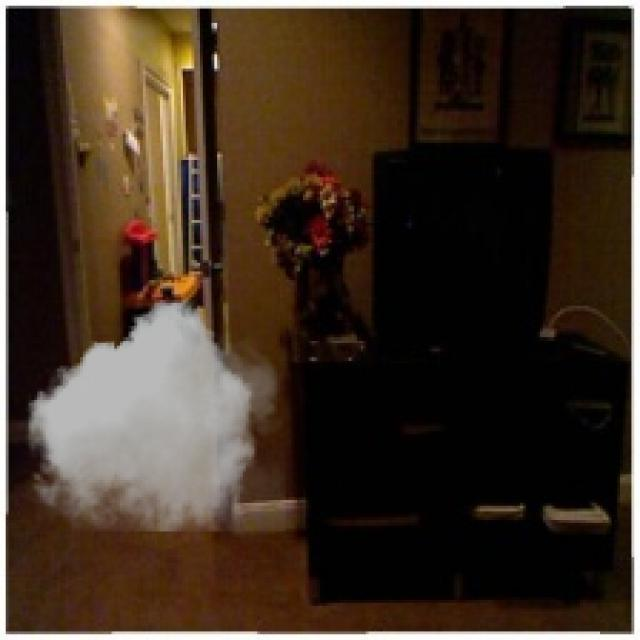Smoke: (23, 299, 286, 532)
